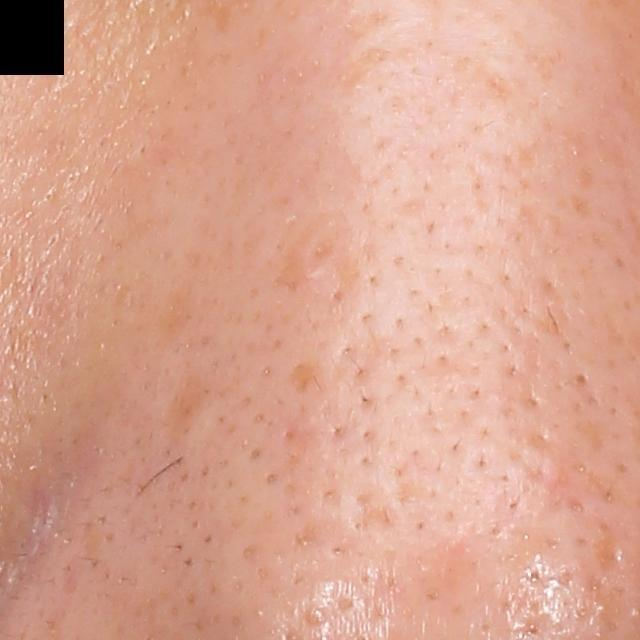atrophic_scar: (289, 359, 318, 396)
